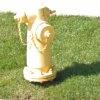a fire hydrant: (27, 6, 59, 78)
